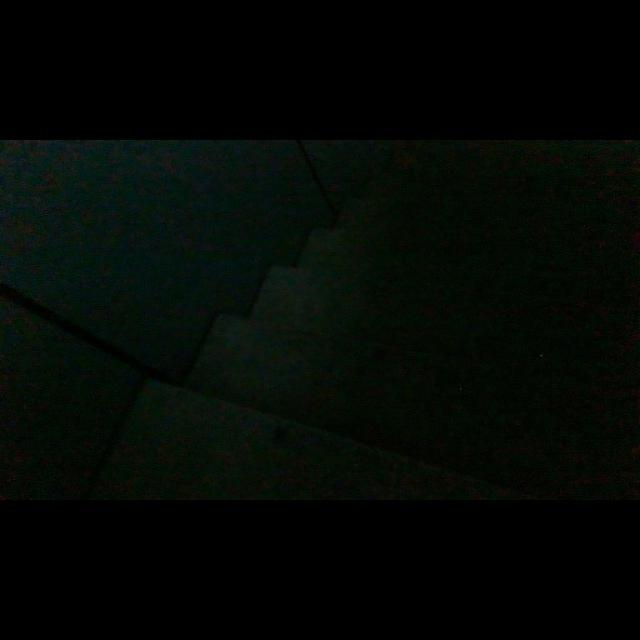stair: (164, 148, 640, 476)
